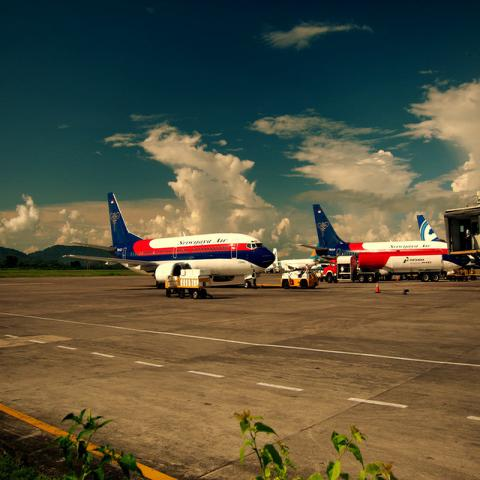truck: (165, 269, 212, 299), (322, 256, 358, 283), (281, 264, 316, 288)
